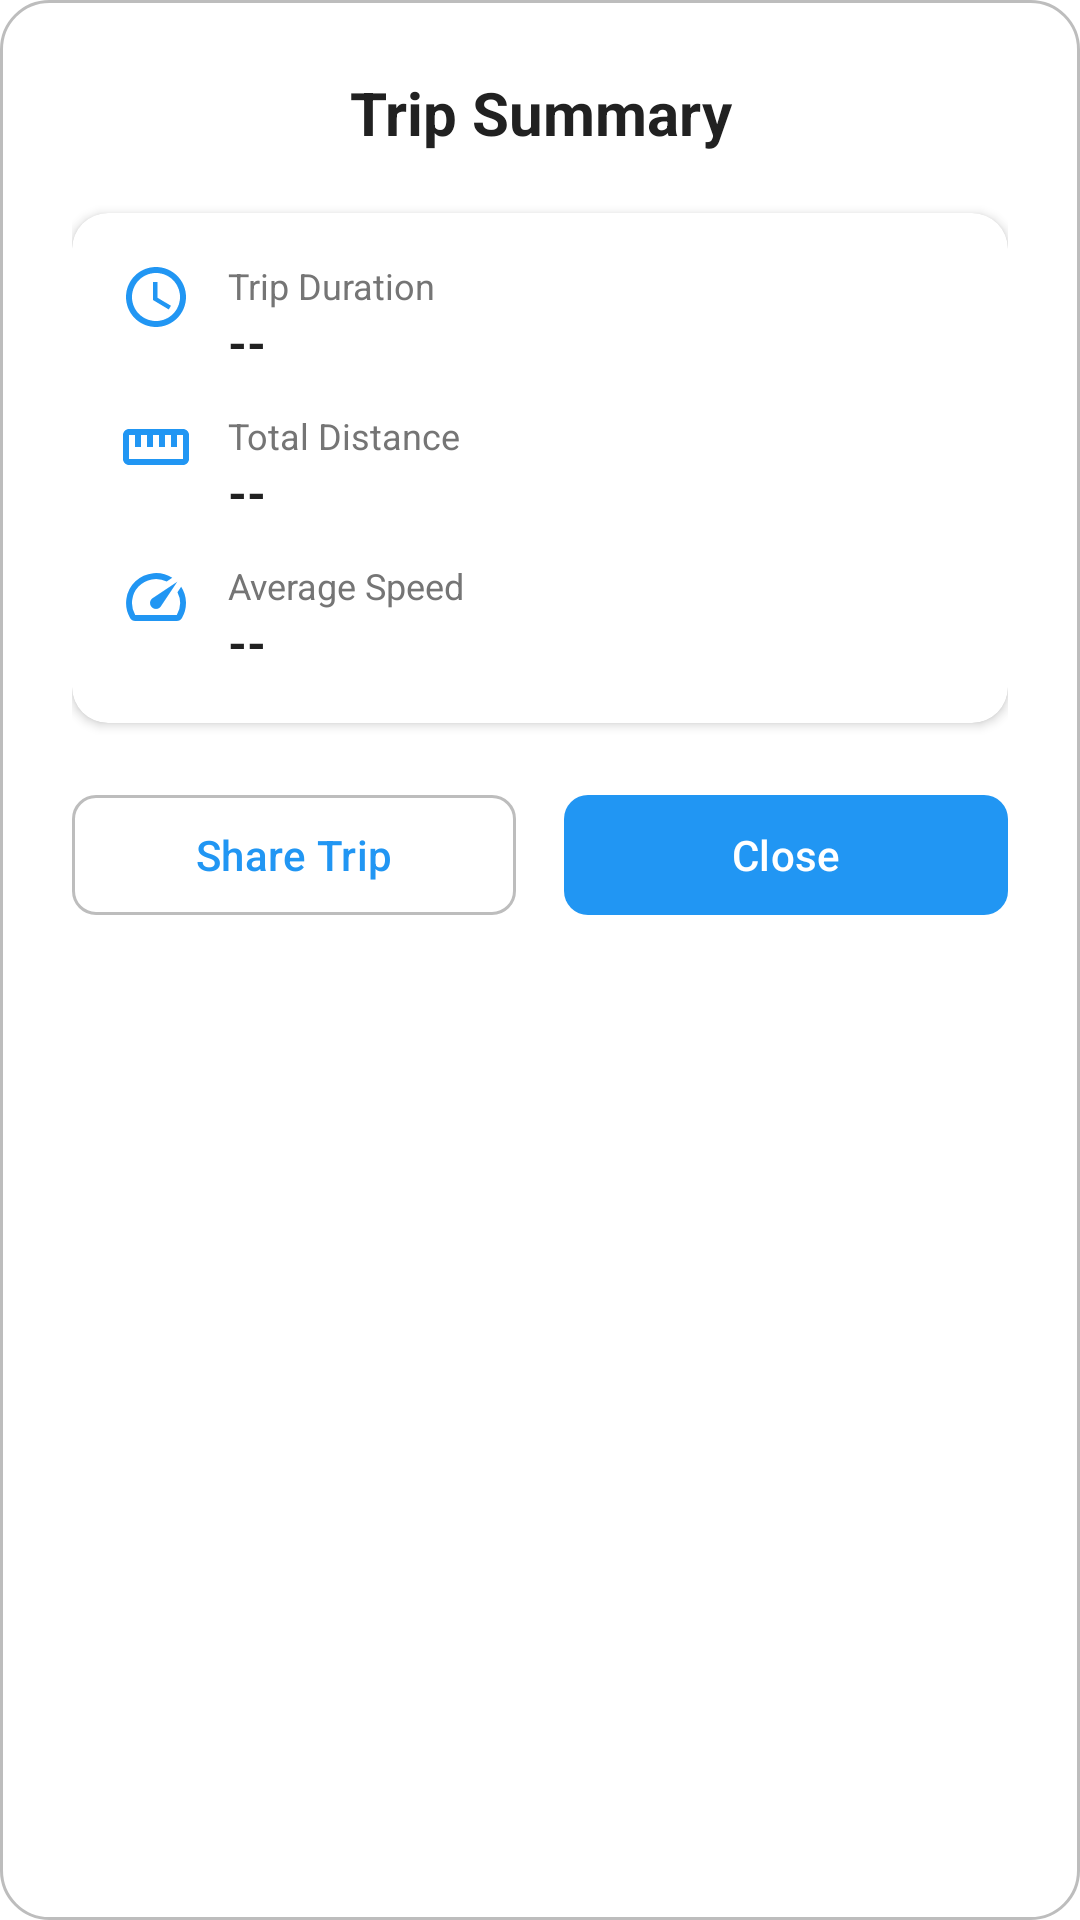

Where to tap for icons on this 1080w x 1920h app screen, as [x,y]:
access time: [156,297]
straighten: [156,447]
